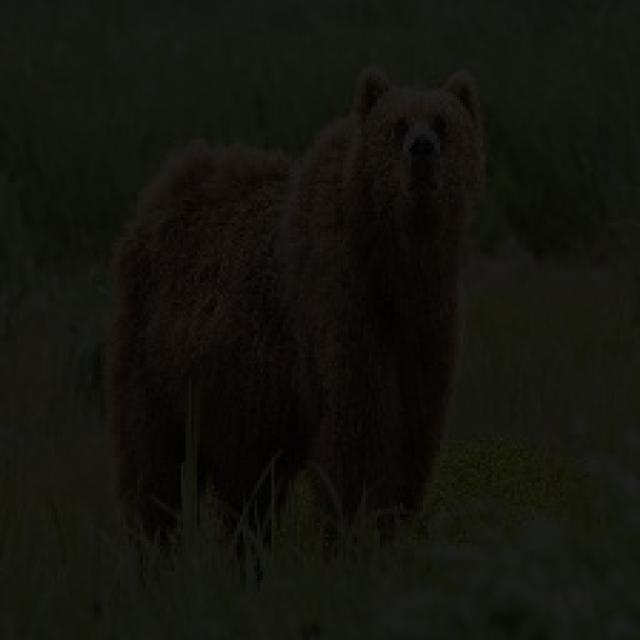bear: (71, 11, 550, 553)
